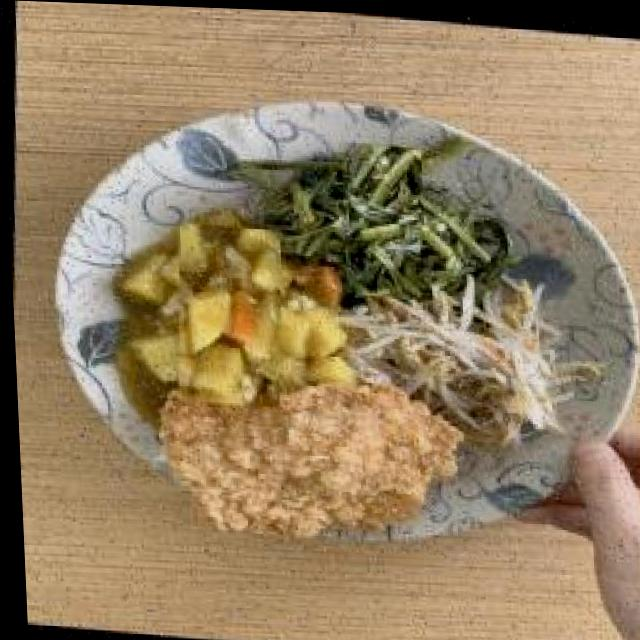curry: (150, 239, 303, 391)
fried_chicken: (180, 383, 423, 535)
mung_bean_sprouts: (405, 296, 538, 398)
water_spinach: (318, 157, 442, 284)
